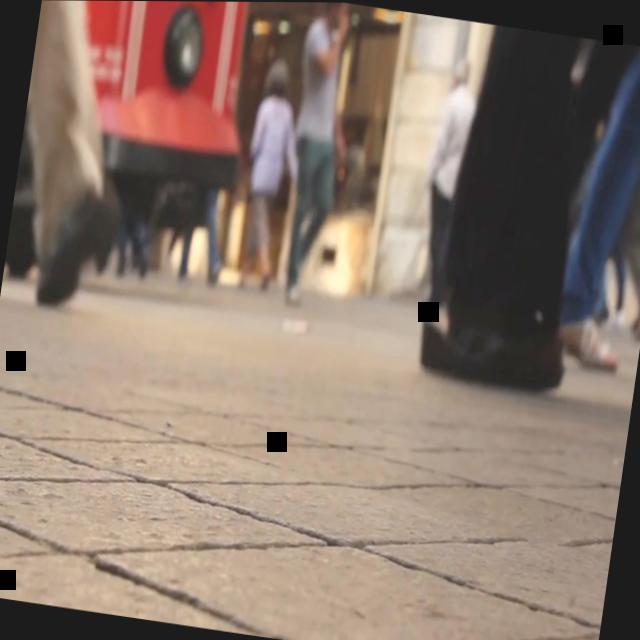NO-Mask: (334, 3, 352, 36)
